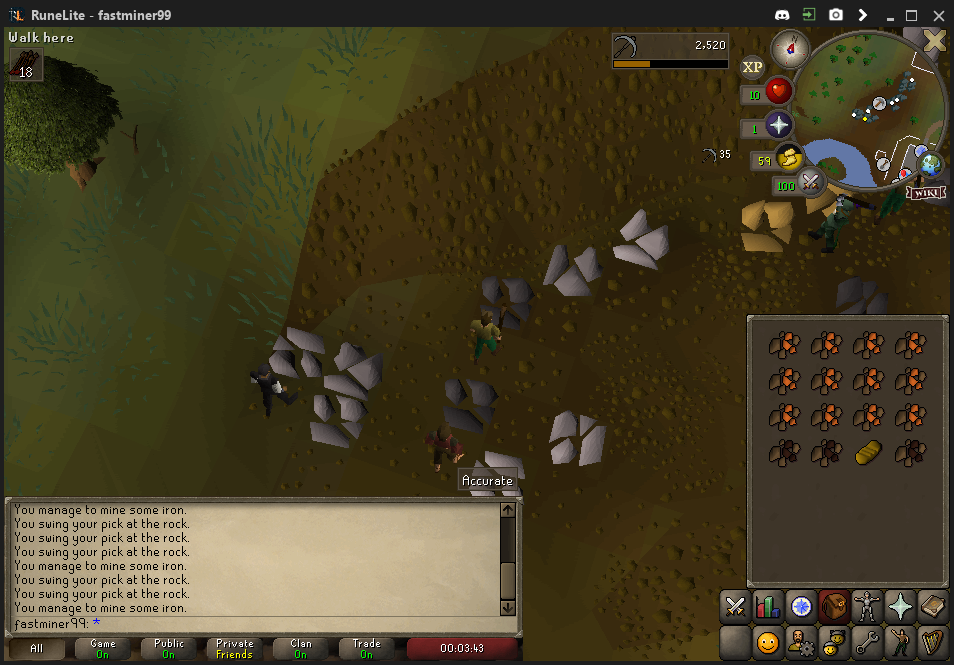depleted: (473, 269, 539, 328), (439, 378, 498, 433)
